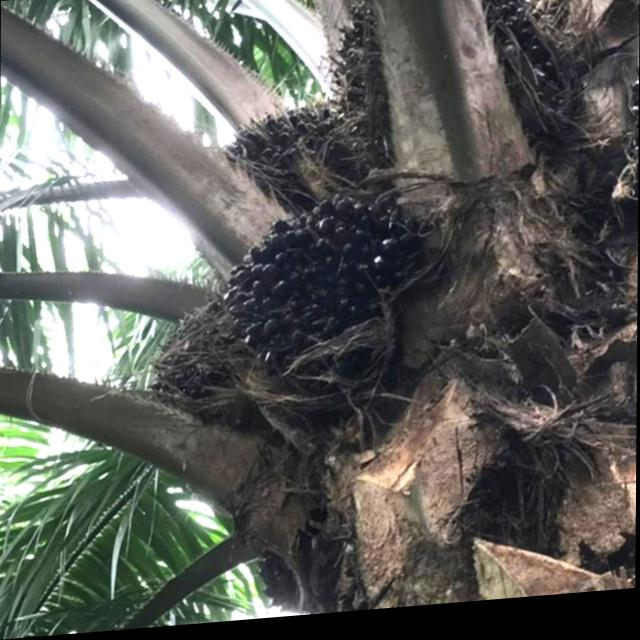almost: (207, 187, 449, 411)
